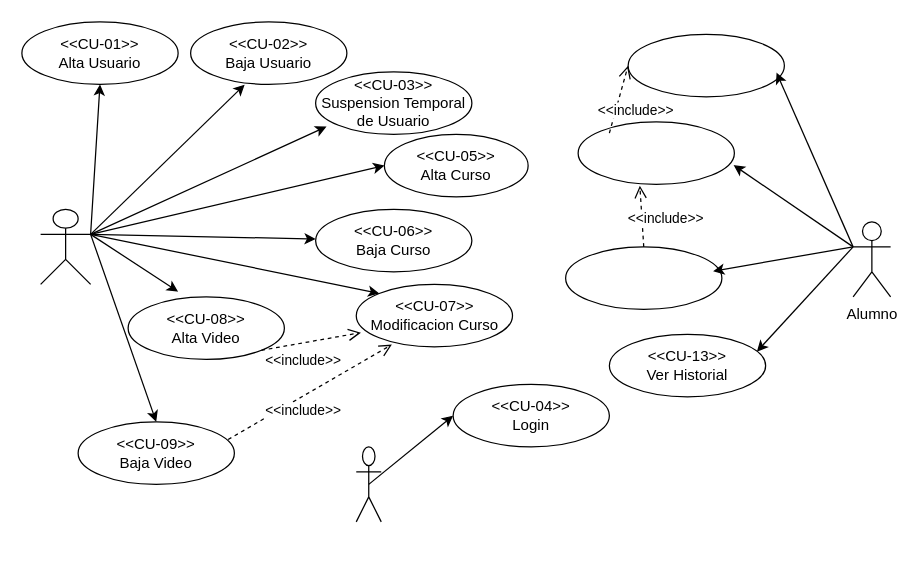
The diagram is 919 pixels wide and 570 high, and some of its shapes have lost their labels. Here are the shapes that lost their labels. From the top down, the box of each, then its label:
(627, 33, 784, 97): <<CU-10>> Ver Cursos
(577, 121, 734, 184): <<CU-11>> Seleccionar Curso
(39, 208, 91, 284): Admin
(564, 246, 722, 309): <<CU-12>> Ver Video
(355, 446, 381, 522): Usuario no Autenticado
